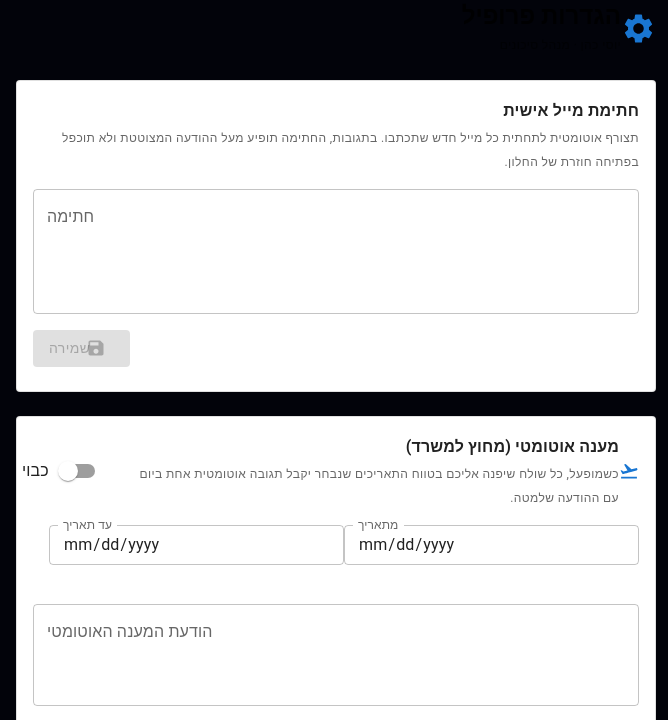
Test: ProfileSettings — out-of-office / auto-responder (TODO_SPEC.md "משימה 18") › the save button starts disabled and enables once a setting is changed
Click the checkbox with test id "auto-responder-toggle": (58, 470) [22,460,95,480]
(page scrolled)
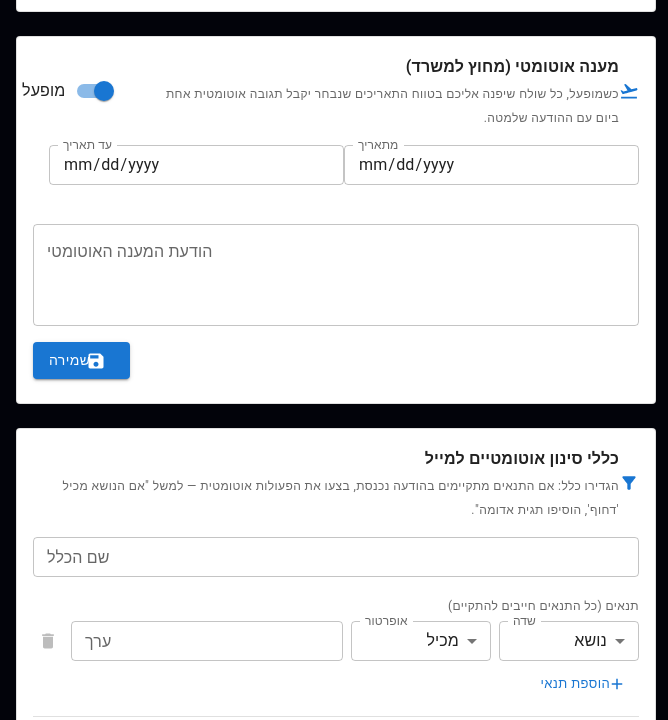
Result: the button with test id "save-auto-responder-button" is enabled at [33,342,130,379]
